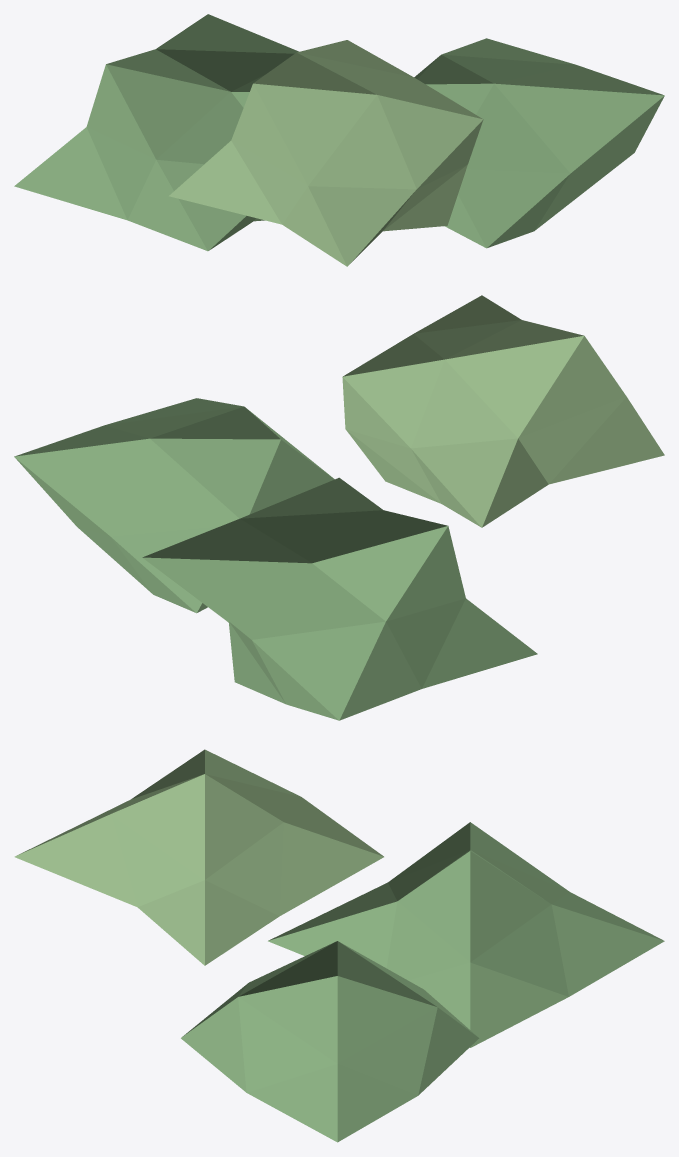
File: shrub_v07.glb
3 views of the same model, one above another, from view 1: azimuth 30°, elevation 25°; view 2: azimuth 150°, elevation 25°; view 3: azimuth 270°, elevation 25° (orthographic). The views are drawn at different scales.
Visible parts, largest first — view 1: lod0; view 2: lod0; view 3: lod0.
Part boxes in pixels (x1=…): lod0: x1=14, y1=14, x2=664, y2=266; lod0: x1=14, y1=295, x2=664, y2=720; lod0: x1=14, y1=749, x2=664, y2=1142.
Size of what is drawn, in the model's own units: 1.38 by 0.71 by 1.4.
